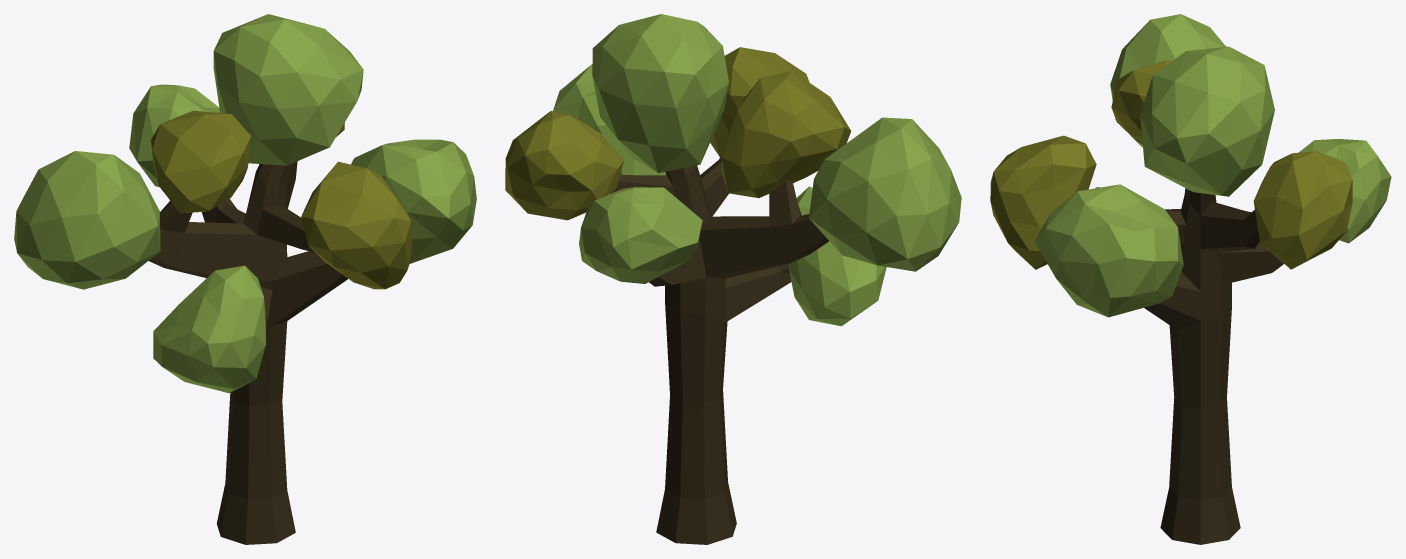
Rendered from Tree_Bobble.fbx.
The picture shows the model from 3 angles, left to right: view 1: azimuth 30°, elevation 25°; view 2: azimuth 150°, elevation 25°; view 3: azimuth 270°, elevation 25°; orthographic projection. The views are drawn at different scales.
Parts seen in each view (by area): view 1: polySurface62; view 2: polySurface62; view 3: polySurface62.
Part boxes in pixels (left/top/right/bottom): polySurface62: left=14, top=14, right=476, bottom=544; polySurface62: left=505, top=14, right=961, bottom=544; polySurface62: left=990, top=14, right=1391, bottom=544.
Bounding box in the file's own units: 340 × 392 × 291.
